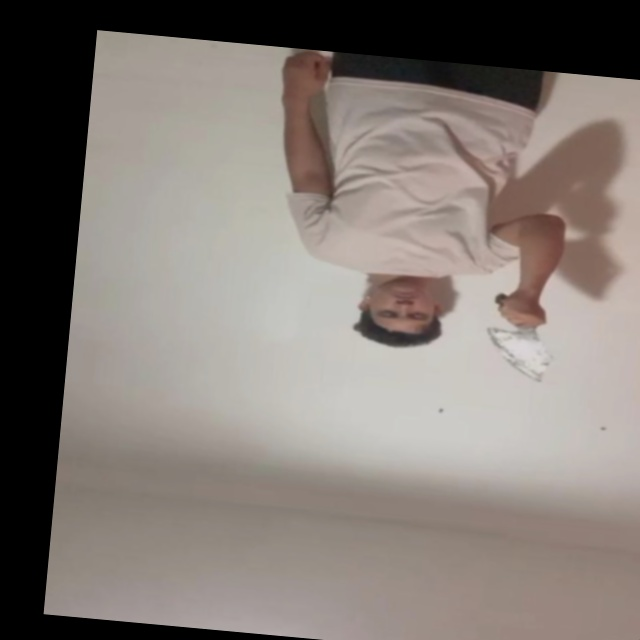Sharp-Object: (487, 327, 556, 384)
